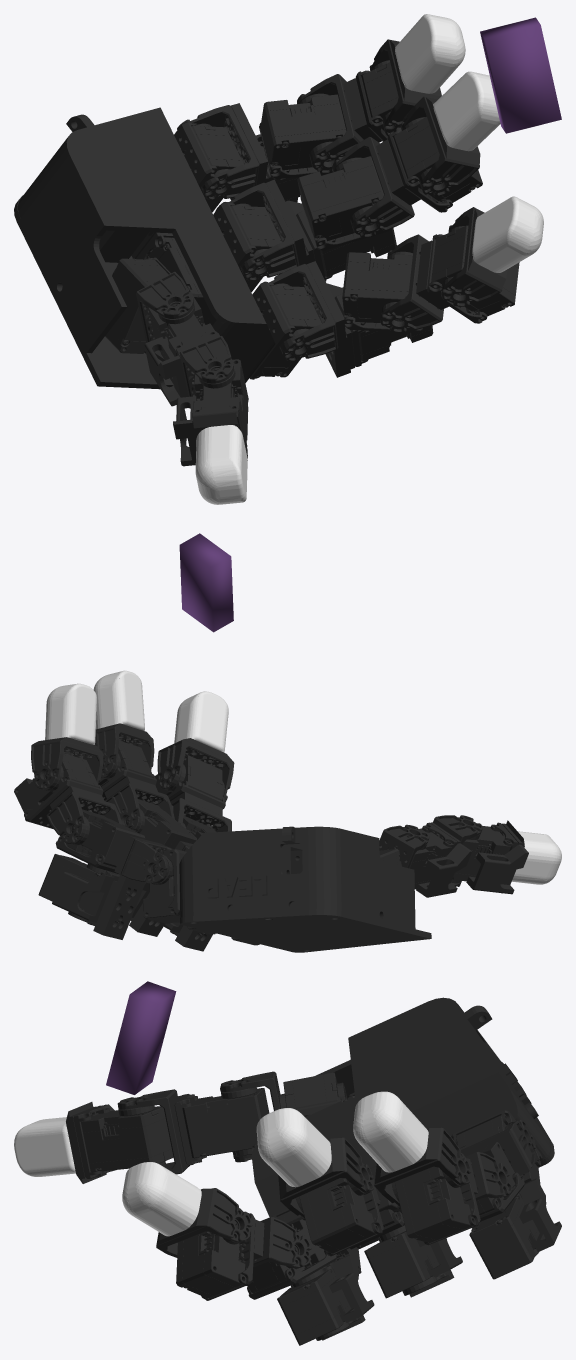
3 renders of one model, top to bottom at view 1: azimuth 30°, elevation 25°; view 2: azimuth 150°, elevation 25°; view 3: azimuth 270°, elevation 25°, orthographic. The views are drawn at different scales.
Parts seen in each view (by area): view 1: HAND__012__meshes__visual__palm_lower.glb__black_metal, HAND__001__meshes__visual__dip.glb_1__black_metal, HAND__000__meshes__visual__dip.glb__black_metal, OBJECT__00__recorded_box, HAND__009__meshes__visual__mcp_joint.glb__black_metal, HAND__010__meshes__visual__mcp_joint.glb_1__black_metal, HAND__017__meshes__visual__thumb_dip.glb__black_metal, HAND__015__meshes__visual__pip.glb_2__black_metal, HAND__014__meshes__visual__pip.glb_1__black_metal, HAND__002__meshes__visual__dip.glb_2__black_metal, HAND__013__meshes__visual__pip.glb__black_metal, HAND__019__meshes__visual__thumb_fingertip.glb_1__black_meta (+10 smaller); view 2: HAND__012__meshes__visual__palm_lower.glb__black_metal, HAND__011__meshes__visual__mcp_joint.glb_2__black_metal, HAND__002__meshes__visual__dip.glb_2__black_metal, OBJECT__00__recorded_box, HAND__017__meshes__visual__thumb_dip.glb__black_metal, HAND__019__meshes__visual__thumb_fingertip.glb_1__black_meta, HAND__000__meshes__visual__dip.glb__black_metal, HAND__001__meshes__visual__dip.glb_1__black_metal, HAND__007__meshes__visual__fingertip.glb_4__White_tip, HAND__015__meshes__visual__pip.glb_2__black_metal, HAND__005__meshes__visual__fingertip.glb_2__White_tip, HAND__003__meshes__visual__fingertip.glb__White_tip (+8 smaller); view 3: HAND__012__meshes__visual__palm_lower.glb__black_metal, HAND__017__meshes__visual__thumb_dip.glb__black_metal, HAND__011__meshes__visual__mcp_joint.glb_2__black_metal, HAND__000__meshes__visual__dip.glb__black_metal, HAND__019__meshes__visual__thumb_fingertip.glb_1__black_meta, HAND__002__meshes__visual__dip.glb_2__black_metal, HAND__009__meshes__visual__mcp_joint.glb__black_metal, HAND__001__meshes__visual__dip.glb_1__black_metal, OBJECT__00__recorded_box, HAND__010__meshes__visual__mcp_joint.glb_1__black_metal, HAND__007__meshes__visual__fingertip.glb_4__White_tip, HAND__005__meshes__visual__fingertip.glb_2__White_tip (+10 smaller).
Boxes of the visible parts, x1,y1,x2,y2 form: HAND__012__meshes__visual__palm_lower.glb__black_metal: (14,107,321,389); HAND__001__meshes__visual__dip.glb_1__black_metal: (332,116,482,237); HAND__000__meshes__visual__dip.glb__black_metal: (380,225,519,332); OBJECT__00__recorded_box: (480,17,561,133); HAND__009__meshes__visual__mcp_joint.glb__black_metal: (268,261,433,377); HAND__010__meshes__visual__mcp_joint.glb_1__black_metal: (215,179,396,281); HAND__017__meshes__visual__thumb_dip.glb__black_metal: (144,292,234,406); HAND__015__meshes__visual__pip.glb_2__black_metal: (259,93,346,179); HAND__014__meshes__visual__pip.glb_1__black_metal: (297,156,390,250); HAND__002__meshes__visual__dip.glb_2__black_metal: (297,60,400,173); HAND__013__meshes__visual__pip.glb__black_metal: (342,251,422,332); HAND__019__meshes__visual__thumb_fingertip.glb_1__black_meta: (173,359,248,466); HAND__012__meshes__visual__palm_lower.glb__black_metal: (143,826,431,952); HAND__011__meshes__visual__mcp_joint.glb_2__black_metal: (38,836,173,939); HAND__002__meshes__visual__dip.glb_2__black_metal: (14,753,122,844); OBJECT__00__recorded_box: (179,533,233,632); HAND__017__meshes__visual__thumb_dip.glb__black_metal: (386,815,482,897); HAND__019__meshes__visual__thumb_fingertip.glb_1__black_meta: (451,820,528,894); HAND__000__meshes__visual__dip.glb__black_metal: (154,754,231,832); HAND__001__meshes__visual__dip.glb_1__black_metal: (98,740,174,831); HAND__007__meshes__visual__fingertip.glb_4__White_tip: (45,683,96,744); HAND__015__meshes__visual__pip.glb_2__black_metal: (55,809,144,874); HAND__005__meshes__visual__fingertip.glb_2__White_tip: (93,670,144,730); HAND__003__meshes__visual__fingertip.glb__White_tip: (174,691,228,752); HAND__012__meshes__visual__palm_lower.glb__black_metal: (251,997,554,1273); HAND__017__meshes__visual__thumb_dip.glb__black_metal: (117,1087,269,1174); HAND__011__meshes__visual__mcp_joint.glb_2__black_metal: (460,1119,561,1279); HAND__000__meshes__visual__dip.glb__black_metal: (176,1212,311,1300); HAND__019__meshes__visual__thumb_fingertip.glb_1__black_meta: (66,1102,173,1183); HAND__002__meshes__visual__dip.glb_2__black_metal: (391,1151,512,1245); HAND__009__meshes__visual__mcp_joint.glb__black_metal: (277,1216,374,1345); HAND__001__meshes__visual__dip.glb_1__black_metal: (295,1164,401,1256); OBJECT__00__recorded_box: (106,981,176,1094); HAND__010__meshes__visual__mcp_joint.glb_1__black_metal: (364,1225,462,1298); HAND__007__meshes__visual__fingertip.glb_4__White_tip: (353,1091,428,1172); HAND__005__meshes__visual__fingertip.glb_2__White_tip: (256,1108,331,1187).
Bounding box in the file's own units: 0.2209 × 0.1907 × 0.2407.
